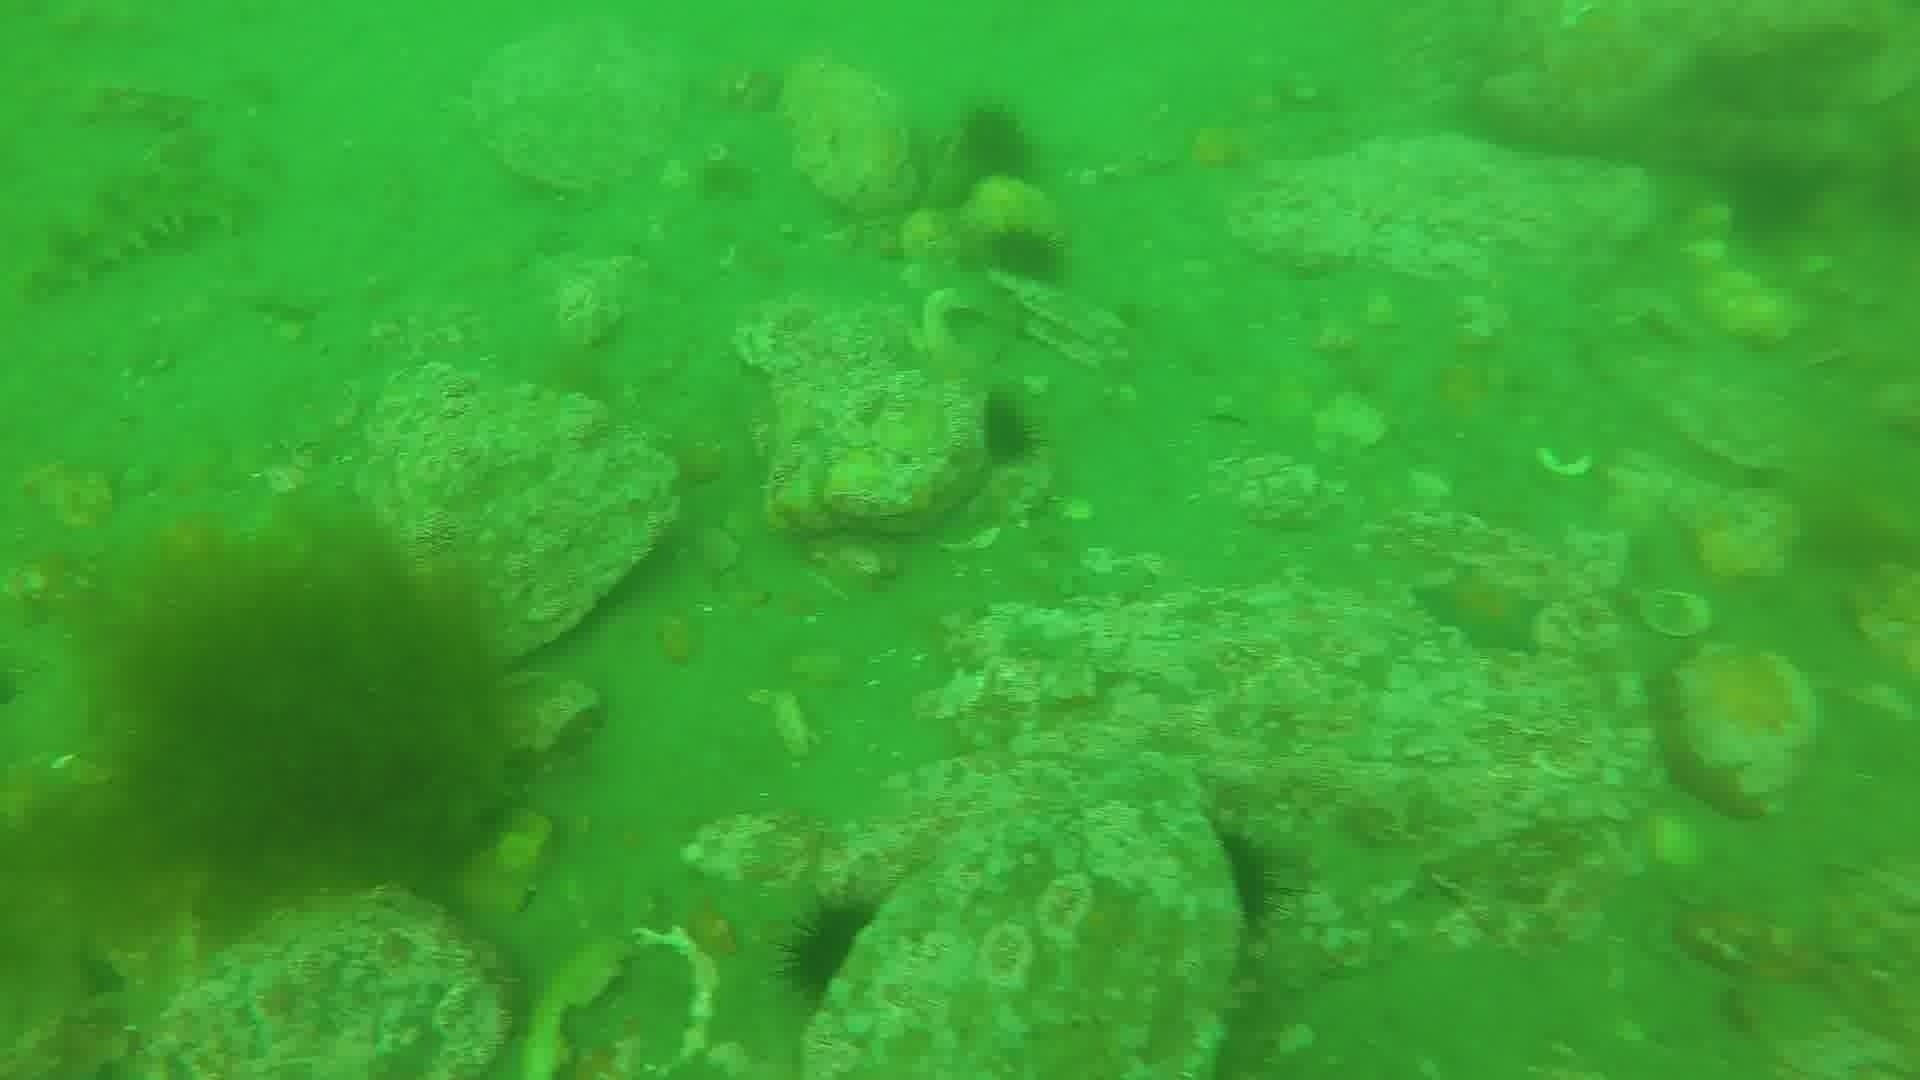echinus: (774, 889, 890, 1011), (1203, 820, 1298, 940), (1718, 150, 1824, 245), (951, 102, 1043, 189), (981, 222, 1069, 291), (971, 392, 1046, 471)
holothurian: (13, 160, 253, 301), (50, 38, 262, 152)
starfish: (1408, 564, 1551, 661)
